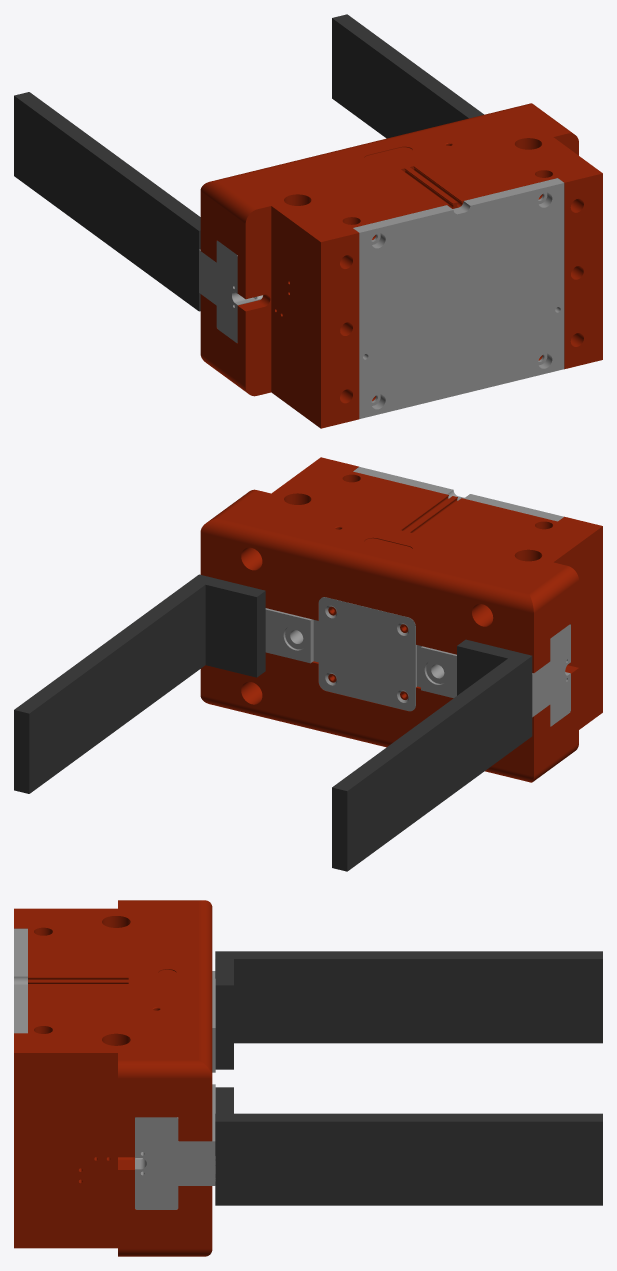
The model's file is RGN300.FBX.
3 renders of one model, top to bottom at view 1: azimuth 30°, elevation 25°; view 2: azimuth 150°, elevation 25°; view 3: azimuth 270°, elevation 25°, orthographic. The views are drawn at different scales.
Parts seen in each view (by area): view 1: ¿é¤J1 (×2), Box080, Box078, O10.2 (10.2) ª½®|¤Õ1; view 2: ¿é¤J1 (×3), Box080, Box078, O10.2 (10.2) ª½®|¤Õ1 (×2), Box079, Box081; view 3: ¿é¤J1 (×2), Box078, Box080, O10.2 (10.2) ª½®|¤Õ1, Box079, Box081.
Part boxes in pixels (x1=…): ¿é¤J1 (×2): x1=200, y1=103, x2=602, y2=428; Box080: x1=14, y1=92, x2=200, y2=311; Box078: x1=332, y1=14, x2=483, y2=138; O10.2 (10.2) ª½®|¤Õ1: x1=199, y1=240, x2=261, y2=342; ¿é¤J1 (×3): x1=200, y1=457, x2=602, y2=782; Box080: x1=332, y1=656, x2=532, y2=871; Box078: x1=14, y1=574, x2=207, y2=793; O10.2 (10.2) ª½®|¤Õ1 (×2): x1=265, y1=608, x2=570, y2=726; Box079: x1=190, y1=574, x2=265, y2=677; Box081: x1=457, y1=639, x2=531, y2=742; ¿é¤J1 (×2): x1=14, y1=900, x2=212, y2=1256; Box078: x1=215, y1=1113, x2=602, y2=1205; Box080: x1=215, y1=951, x2=602, y2=1043; O10.2 (10.2) ª½®|¤Õ1: x1=135, y1=1084, x2=215, y2=1209; Box079: x1=215, y1=1087, x2=233, y2=1205; Box081: x1=215, y1=951, x2=233, y2=1069.
Bounding box in the file's own units: 10.24 × 5.47 × 14.96.
